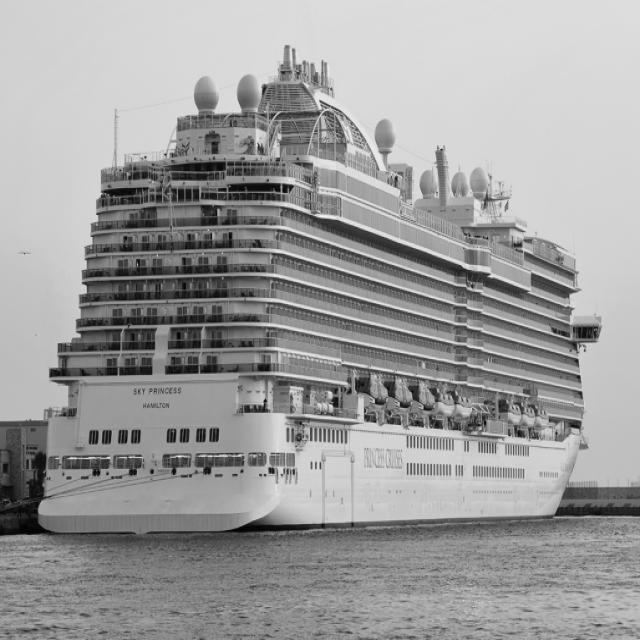cruises: (30, 48, 604, 540)
